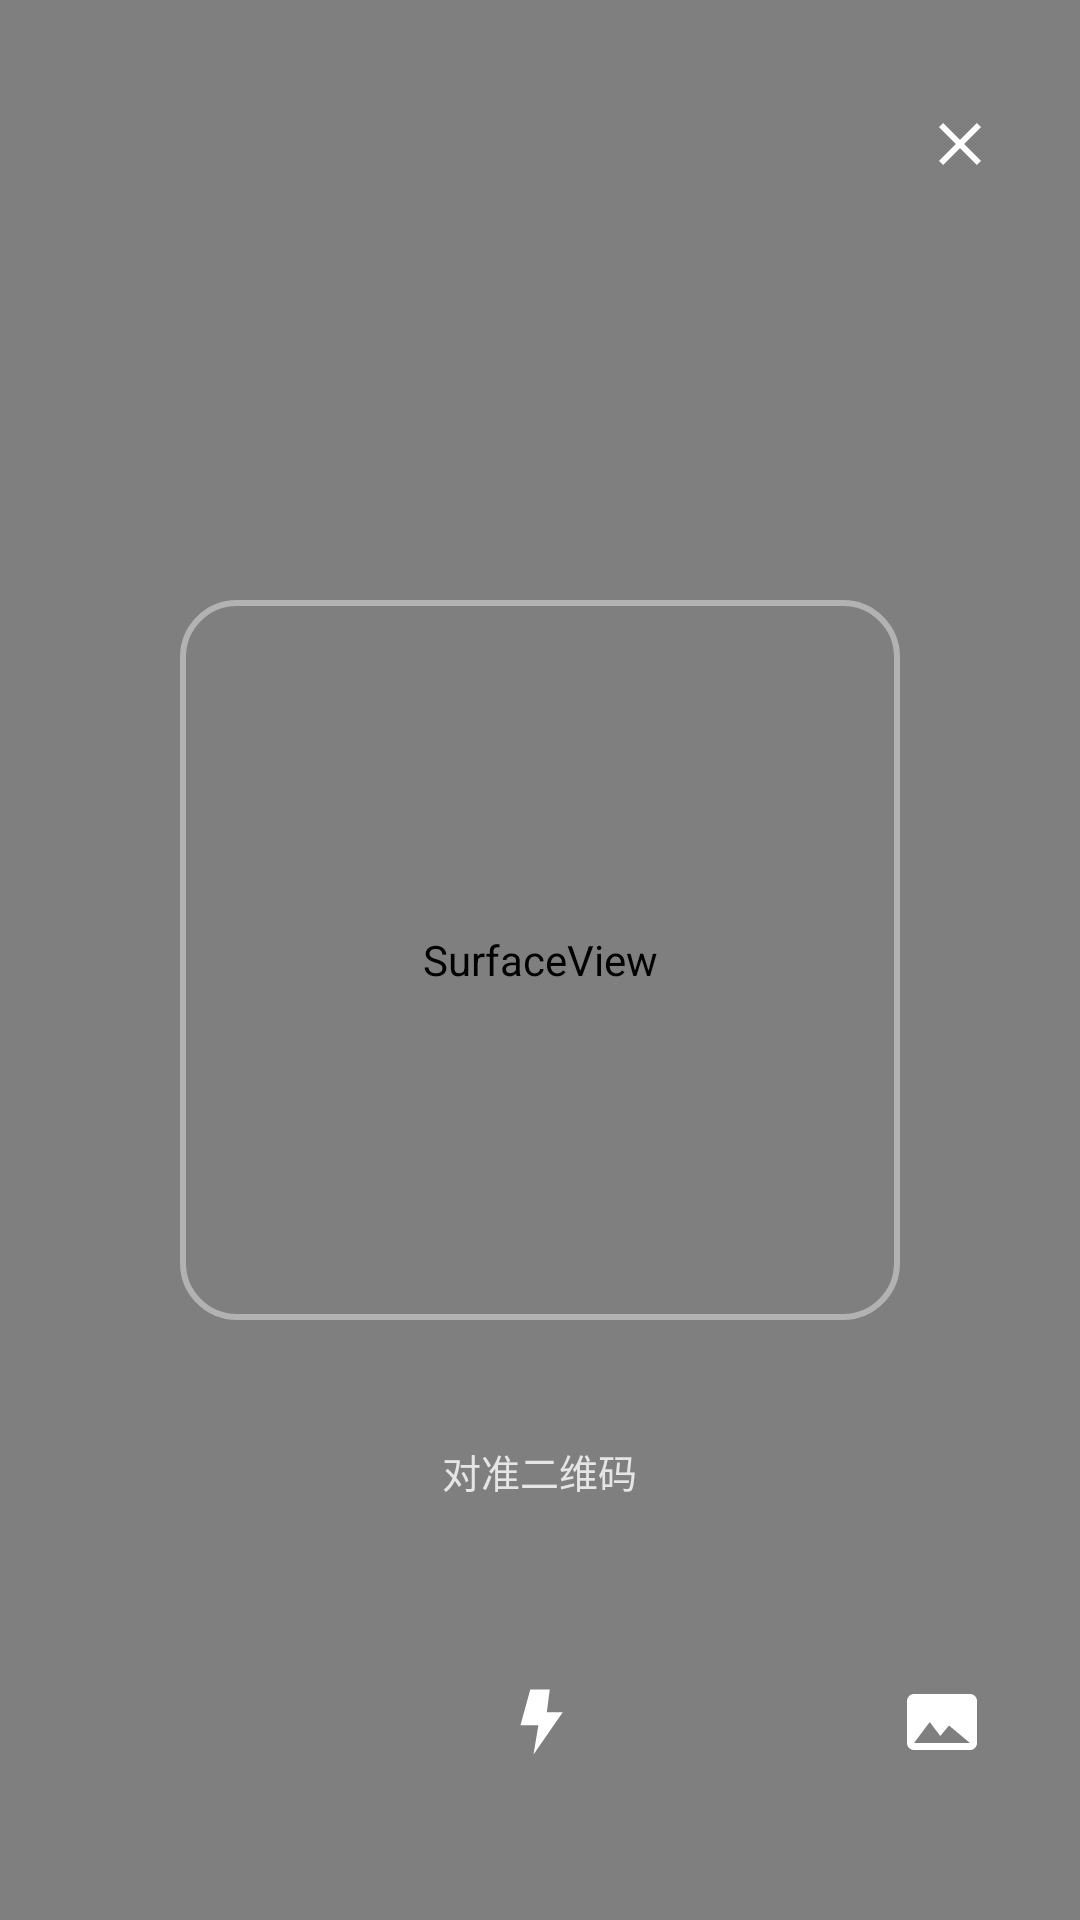

Screen size 1080*1920. Icon name, then its center in pixels as [x,y]:
从相册导入: [942,1722]
关闭: [960,144]
手电筒: [541,1721]
